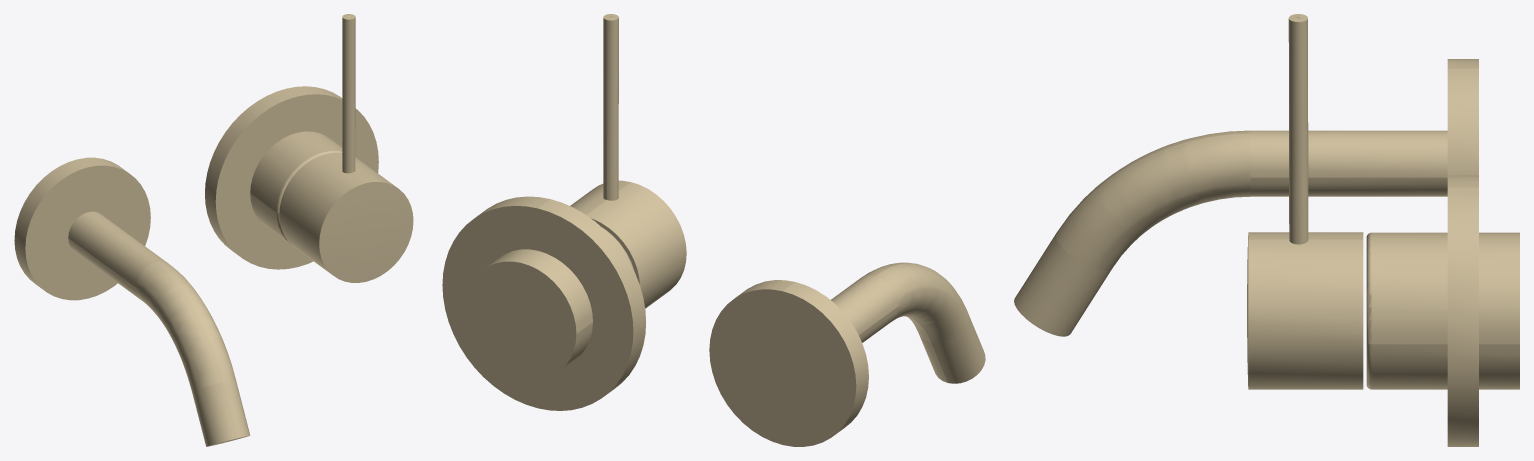
The picture shows the model from 3 angles, left to right: view 1: azimuth 30°, elevation 25°; view 2: azimuth 150°, elevation 25°; view 3: azimuth 270°, elevation 25°; orthographic projection. The views are drawn at different scales.
Parts seen in each view (by area): view 1: empty_7, empty_3, empty_4, empty_6, empty_2, empty_5; view 2: empty_3, empty_6, empty_2, empty_7, empty_4, empty_5; view 3: empty_7, empty_2, empty_4, empty_3, empty_5, empty_6.
Part boxes in pixels (bbox=[...]): empty_7: bbox=[68, 211, 250, 446]; empty_3: bbox=[205, 86, 378, 269]; empty_4: bbox=[279, 152, 413, 282]; empty_6: bbox=[14, 157, 150, 300]; empty_2: bbox=[250, 131, 342, 244]; empty_5: bbox=[342, 14, 355, 173]; empty_3: bbox=[442, 196, 646, 410]; empty_6: bbox=[709, 280, 868, 446]; empty_2: bbox=[466, 227, 634, 379]; empty_7: bbox=[831, 262, 985, 383]; empty_4: bbox=[570, 180, 686, 308]; empty_5: bbox=[603, 14, 618, 200]; empty_7: bbox=[1014, 130, 1447, 336]; empty_2: bbox=[1366, 232, 1519, 389]; empty_4: bbox=[1247, 232, 1363, 389]; empty_3: bbox=[1447, 175, 1478, 446]; empty_5: bbox=[1288, 14, 1308, 244]; empty_6: bbox=[1447, 59, 1478, 175].
Bounding box in the file's own units: 1.69 × 1.46 × 1.45.
